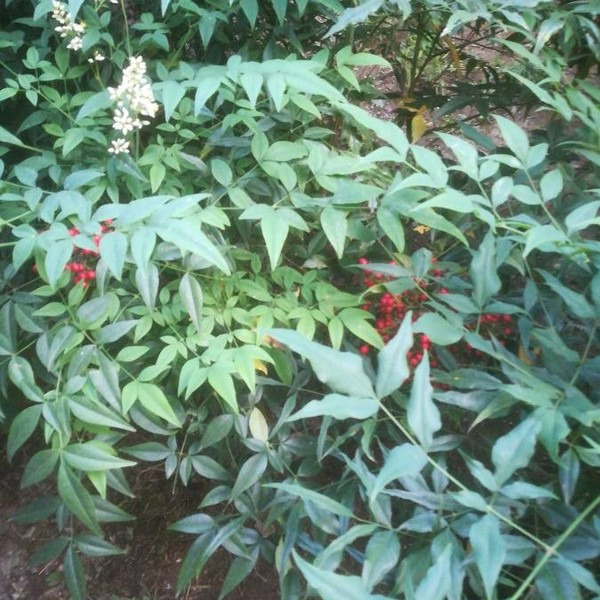obstacle: (44, 92, 517, 537)
